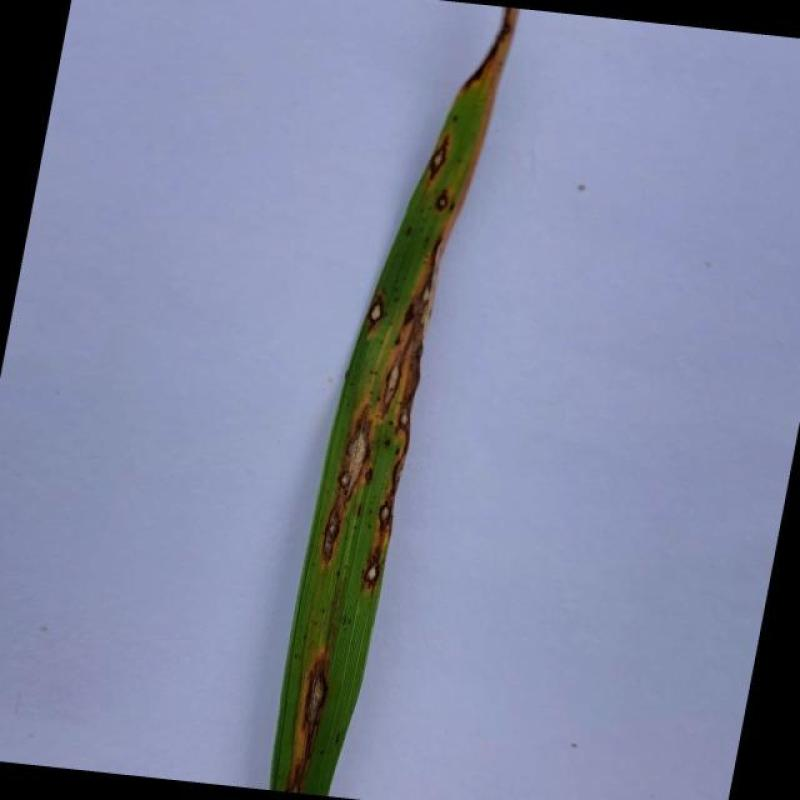Leaf_Blast: (334, 408, 375, 507), (380, 340, 412, 419), (300, 661, 332, 740), (318, 506, 344, 565), (425, 135, 451, 183), (360, 545, 384, 589), (285, 756, 307, 794), (367, 291, 385, 335), (374, 499, 392, 540), (389, 452, 406, 492), (397, 400, 412, 434), (420, 276, 434, 310), (435, 188, 450, 212)
